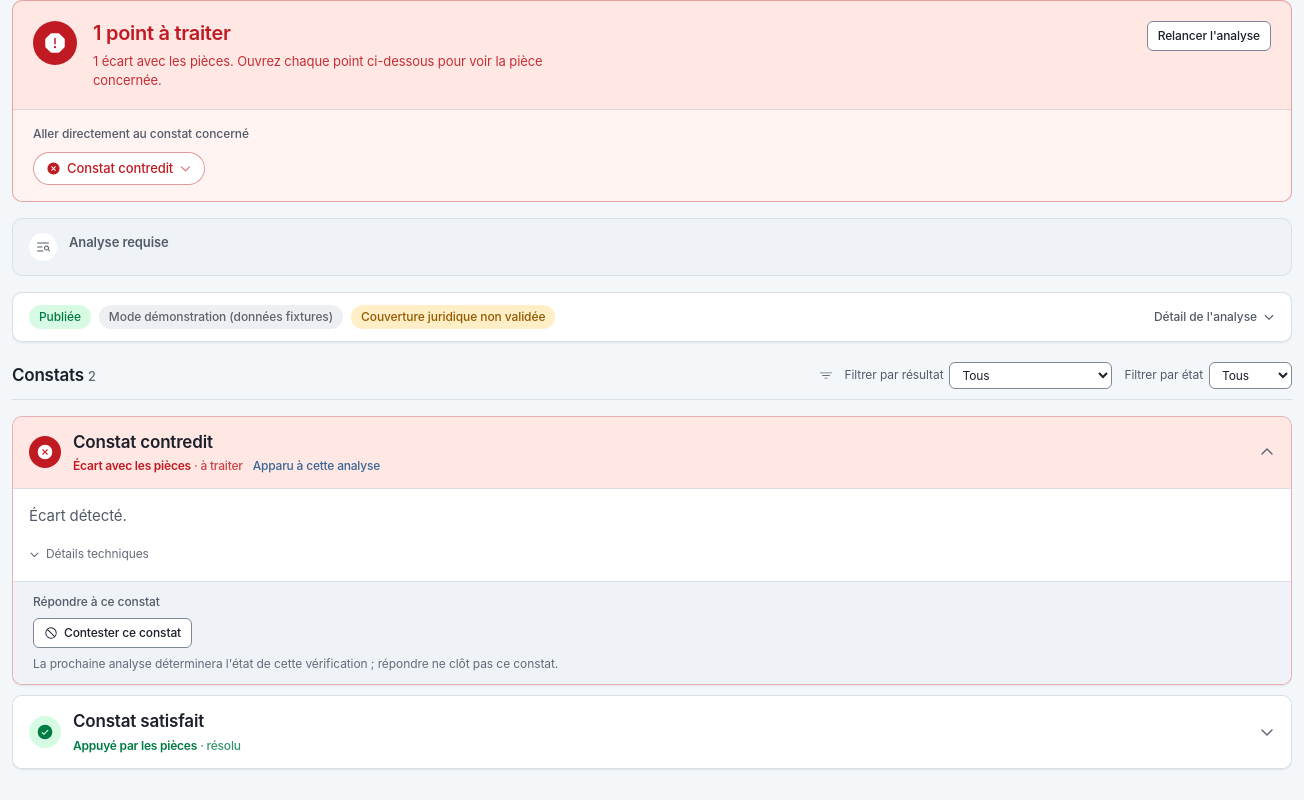
Test: FindingsPanel › filters findings by result without losing keyboard access
Expected: the text "Constat satisfait" is shown, [73,711,204,731]
Expected: the 2nd text "Constat contredit" is shown, [73,432,213,452]
Select "Écart avec les pièces" in the dropdown labelled "Filtrer par résultat": (1031, 375) [950,362,1112,389]
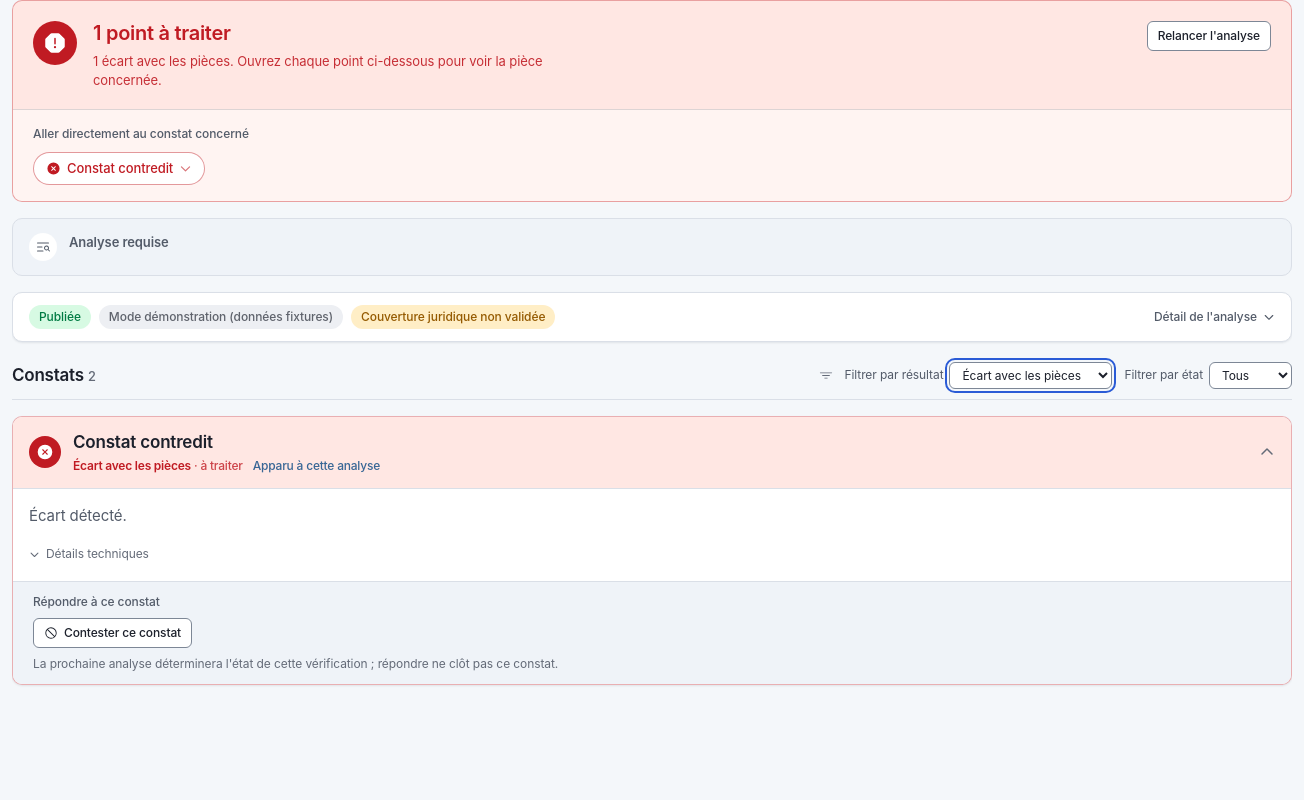
Expected: the 2nd text "Constat contredit" is shown, [73,432,213,452]
Now the button "Constat satisfait" is gone
